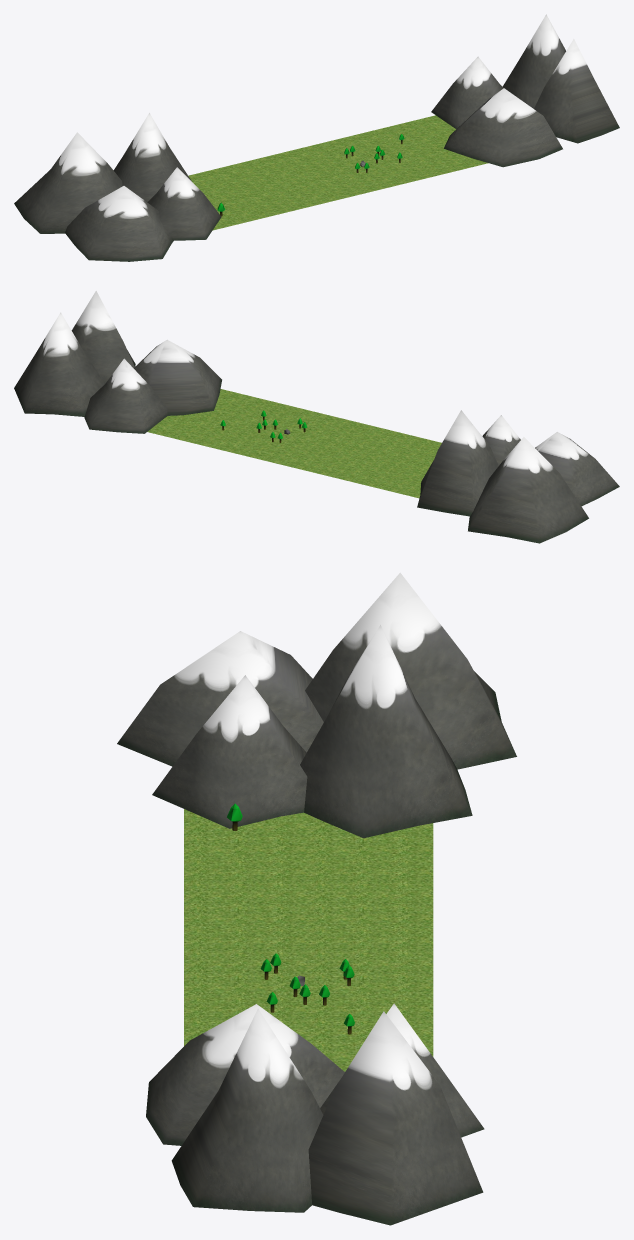
File: terrain_2.glb
3 views of the same model, one above another, from view 1: azimuth 30°, elevation 25°; view 2: azimuth 150°, elevation 25°; view 3: azimuth 270°, elevation 25° (orthographic). The views are drawn at different scales.
Visible parts, largest first — view 1: Circle.013; view 2: Circle.013; view 3: Circle.013.
Part boxes in pixels (left/top/right/bottom): Circle.013: left=14, top=14, right=619, bottom=261; Circle.013: left=14, top=291, right=619, bottom=543; Circle.013: left=117, top=572, right=516, bottom=1225.
Bounding box in the file's own units: 208 × 30.96 × 64.24.
7 materials, 6 textured.
